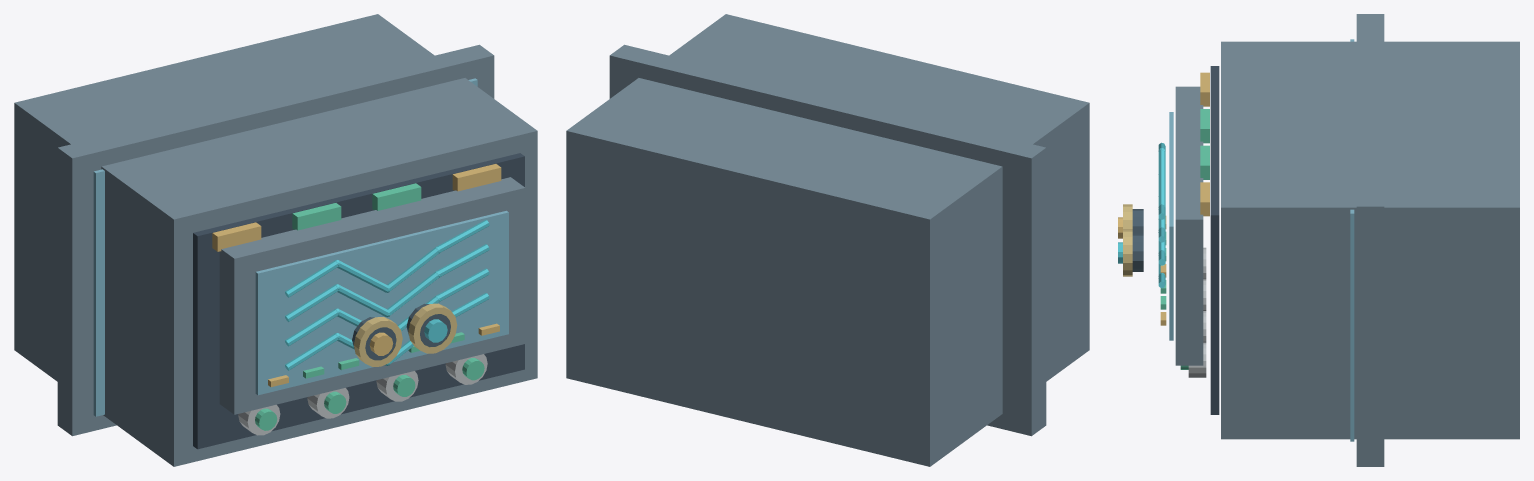
File: 54_L81_ErrorPropagationTraceAnalyzer.glb
The picture shows the model from 3 angles, left to right: view 1: azimuth 30°, elevation 25°; view 2: azimuth 150°, elevation 25°; view 3: azimuth 270°, elevation 25°; orthographic projection. The views are drawn at different scales.
Visible parts, largest first — view 1: ErrorPropagationTraceAnalyzer_Node_0000, ErrorPropagationTraceAnalyzer_Node_0051, ErrorPropagationTraceAnalyzer_Node_0007, ErrorPropagationTraceAnalyzer_Node_0006, ErrorPropagationTraceAnalyzer_Node_0001, ErrorPropagationTraceAnalyzer_Node_0052, ErrorPropagationTraceAnalyzer_Node_0092, ErrorPropagationTraceAnalyzer_Node_0089, ErrorPropagationTraceAnalyzer_Node_0002, ErrorPropagationTraceAnalyzer_Node_0003, ErrorPropagationTraceAnalyzer_Node_0005, ErrorPropagationTraceAnalyzer_Node_0004 (+6 smaller); view 2: ErrorPropagationTraceAnalyzer_Node_0000, ErrorPropagationTraceAnalyzer_Node_0051; view 3: ErrorPropagationTraceAnalyzer_Node_0000, ErrorPropagationTraceAnalyzer_Node_0051, ErrorPropagationTraceAnalyzer_Node_0006, ErrorPropagationTraceAnalyzer_Node_0001, ErrorPropagationTraceAnalyzer_Node_0052, ErrorPropagationTraceAnalyzer_Node_0007, ErrorPropagationTraceAnalyzer_Node_0092, ErrorPropagationTraceAnalyzer_Node_0091, ErrorPropagationTraceAnalyzer_Node_0030.
Part boxes in pixels (x1,y1,x2,y2): ErrorPropagationTraceAnalyzer_Node_0000: [14, 14, 537, 466]; ErrorPropagationTraceAnalyzer_Node_0051: [57, 44, 494, 436]; ErrorPropagationTraceAnalyzer_Node_0007: [255, 210, 508, 395]; ErrorPropagationTraceAnalyzer_Node_0006: [219, 177, 525, 414]; ErrorPropagationTraceAnalyzer_Node_0001: [193, 153, 524, 449]; ErrorPropagationTraceAnalyzer_Node_0052: [93, 78, 477, 416]; ErrorPropagationTraceAnalyzer_Node_0092: [408, 303, 457, 353]; ErrorPropagationTraceAnalyzer_Node_0089: [354, 317, 402, 366]; ErrorPropagationTraceAnalyzer_Node_0002: [212, 222, 261, 251]; ErrorPropagationTraceAnalyzer_Node_0003: [292, 203, 341, 230]; ErrorPropagationTraceAnalyzer_Node_0005: [452, 164, 501, 191]; ErrorPropagationTraceAnalyzer_Node_0004: [372, 183, 421, 210]; ErrorPropagationTraceAnalyzer_Node_0000: [566, 14, 1089, 466]; ErrorPropagationTraceAnalyzer_Node_0051: [609, 44, 1046, 436]; ErrorPropagationTraceAnalyzer_Node_0000: [1221, 41, 1519, 439]; ErrorPropagationTraceAnalyzer_Node_0051: [1356, 14, 1384, 466]; ErrorPropagationTraceAnalyzer_Node_0006: [1175, 86, 1203, 365]; ErrorPropagationTraceAnalyzer_Node_0001: [1210, 66, 1219, 414]; ErrorPropagationTraceAnalyzer_Node_0052: [1350, 39, 1354, 441]; ErrorPropagationTraceAnalyzer_Node_0007: [1169, 112, 1173, 340]; ErrorPropagationTraceAnalyzer_Node_0092: [1123, 229, 1132, 276]; ErrorPropagationTraceAnalyzer_Node_0091: [1132, 233, 1143, 271]; ErrorPropagationTraceAnalyzer_Node_0030: [1158, 149, 1165, 207].
Bounding box in the file's own units: 1.16 × 0.73 × 1.02.
